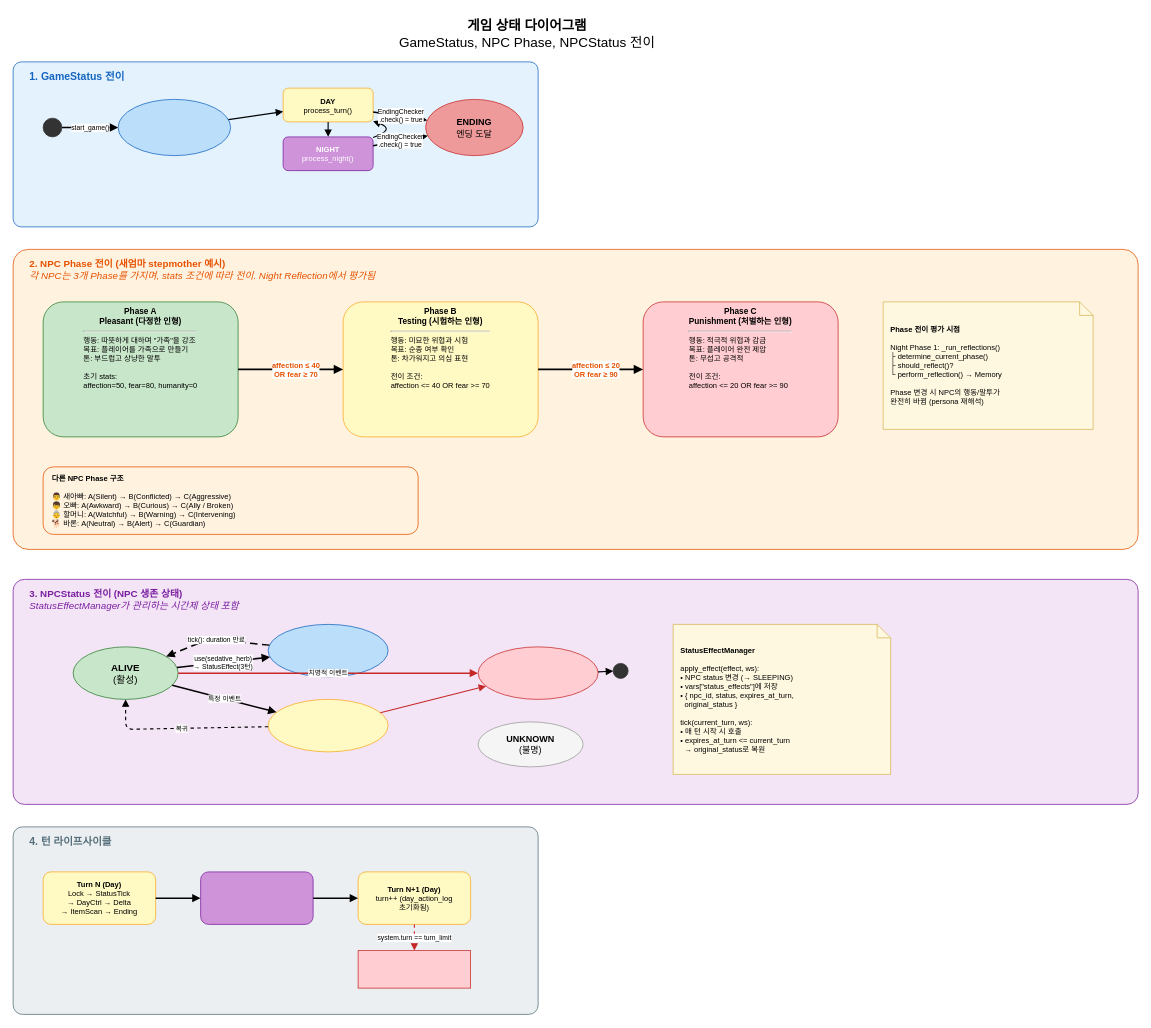
This 1151x1028 diagram has some shape labels left out. Each missing label, with the centre of its shape:
"DECEASED (사망 - 최종)" belongs at pixel 537 672.
"LIVE 게임 진행 중" belongs at pixel 174 127.
"MISSING (실종)" belongs at pixel 327 725.
"SLEEPING (수면 - 시간제)" belongs at pixel 327 650.
"Turn 50 = turn_limit → 강제 엔딩" belongs at pixel 414 969.
"Turn N (Night) Reflect → Plan → Dialogue → Impact → Delta → Ending" belongs at pixel 256 897.
